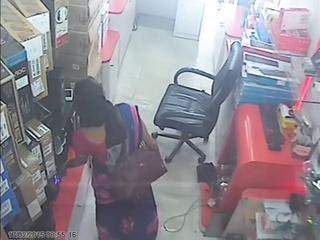Normal: (91, 104, 168, 240)
